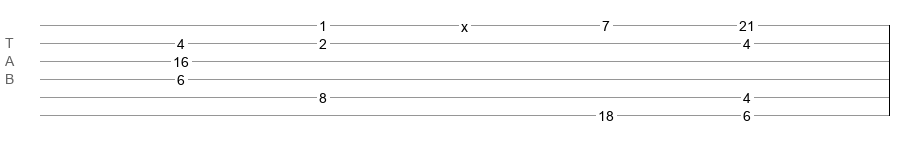1: (319, 18, 327, 28)
16: (173, 54, 189, 64)
18: (598, 108, 614, 118)
2: (319, 36, 327, 46)
21: (739, 18, 755, 28)
4: (177, 36, 185, 46), (743, 36, 751, 46), (743, 90, 751, 100)
6: (177, 72, 185, 82), (743, 108, 751, 118)
7: (602, 18, 610, 28)
8: (319, 90, 327, 100)
x: (461, 19, 468, 27)
